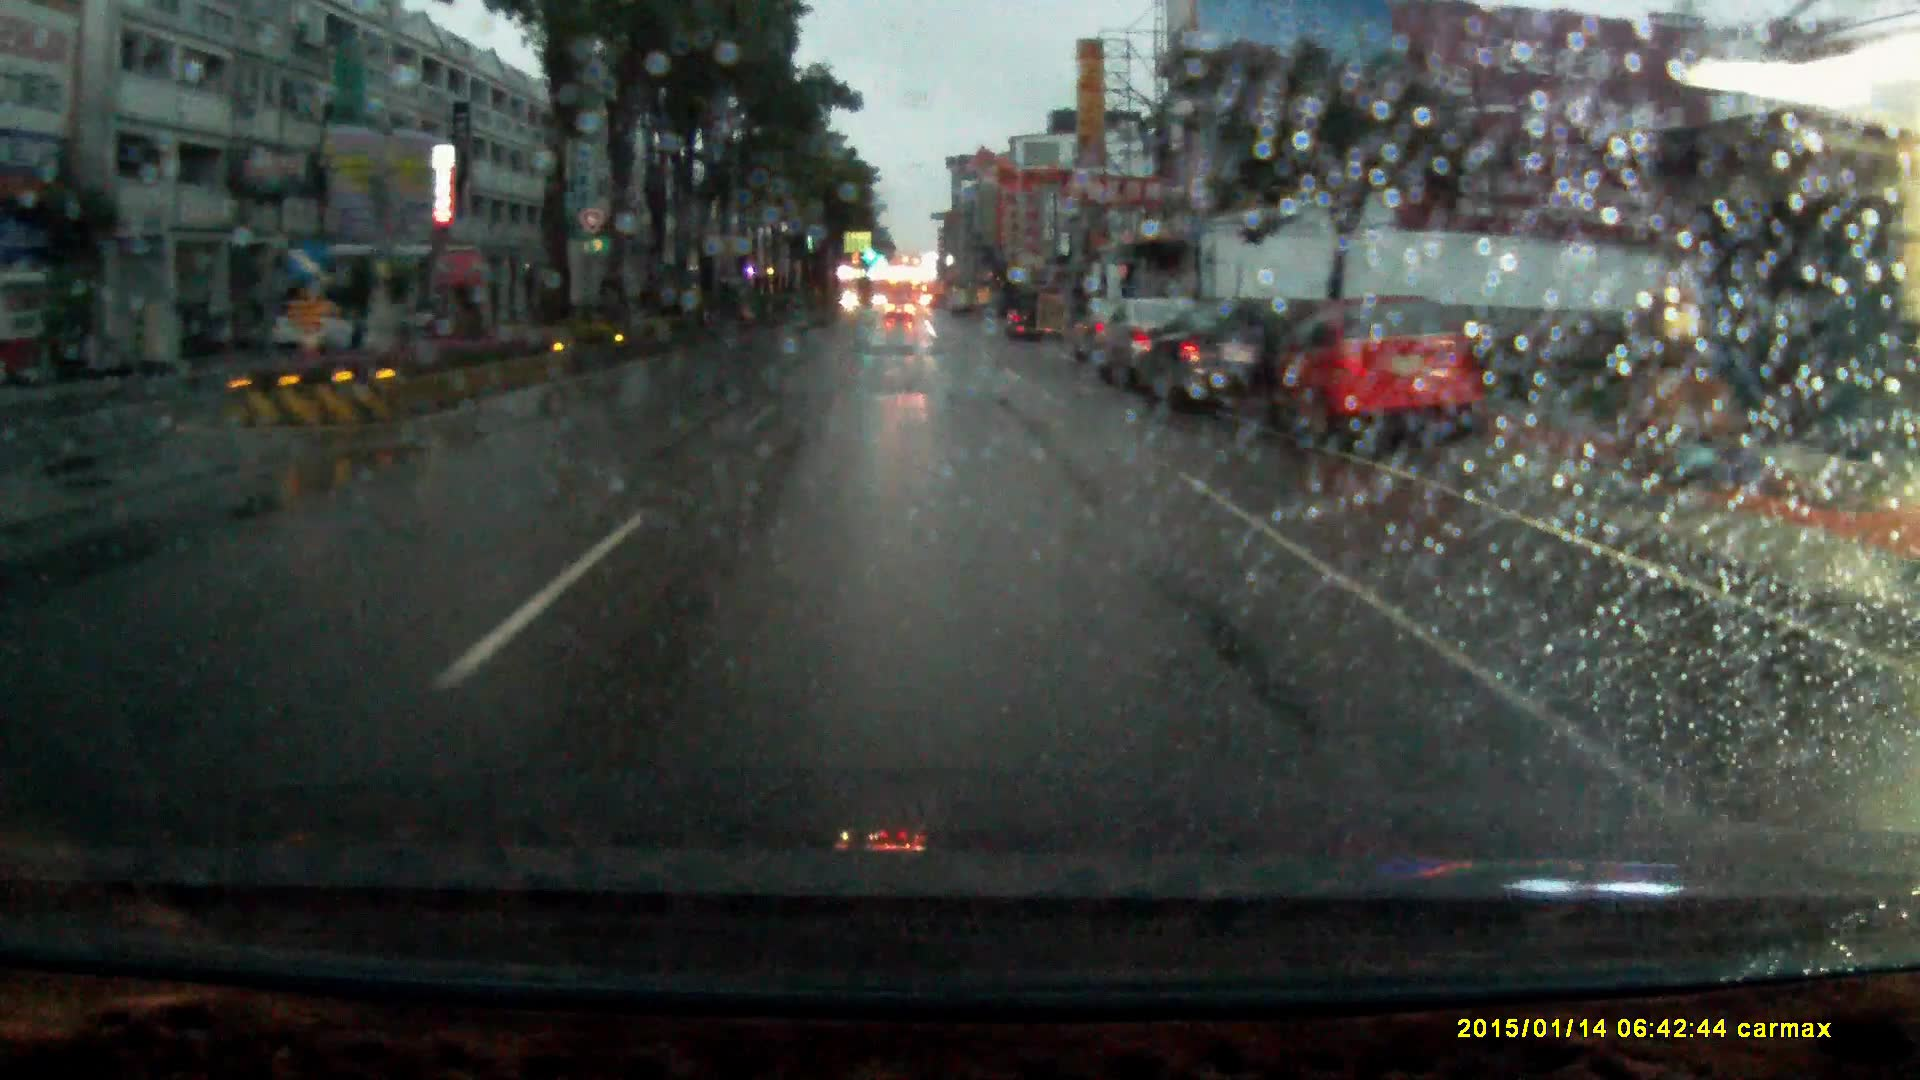vehicle: (1274, 301, 1498, 454), (1131, 301, 1295, 421), (1098, 298, 1196, 385), (400, 291, 501, 342), (273, 298, 353, 357), (1000, 290, 1062, 345), (1069, 299, 1124, 363), (885, 293, 916, 323)
